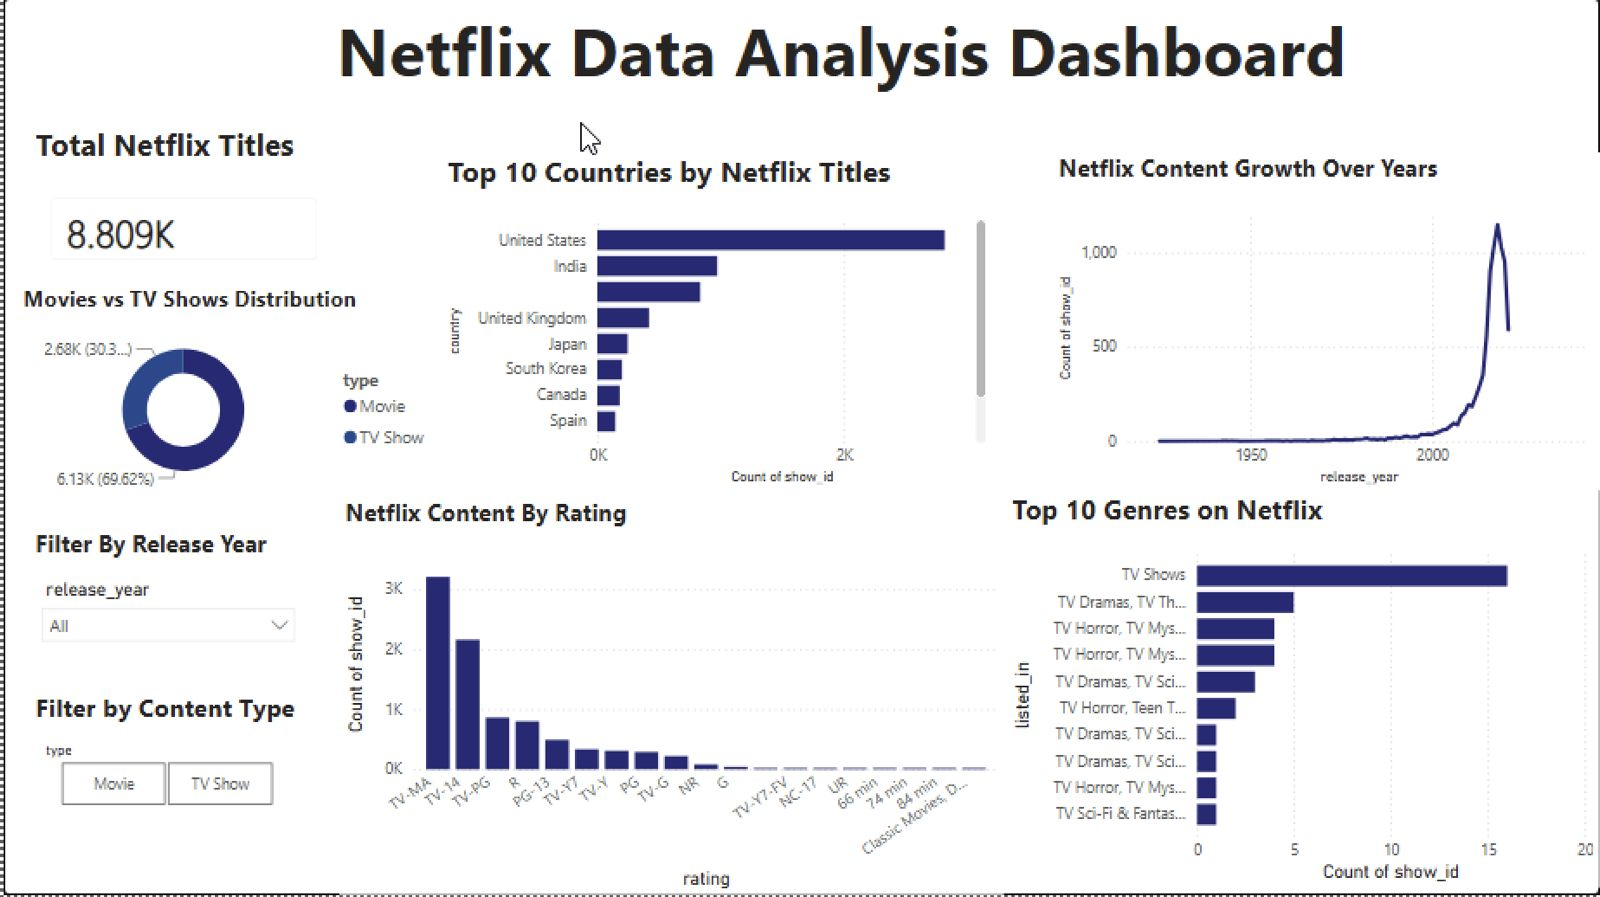

Layout of this report page (visuals, bound fields, positions):
{"tool":"powerbi","page":{"name":"Page 1","canvas":[1280,720],"ordinal":0},"visuals":[{"type":"cardVisual","title":"Total Netflix Titles","fields":{"Data":["Count(netflix_titles_cleaned.show_id)"]},"box":[13,113,223.2,127.5],"z":0},{"type":"donutChart","title":"Movies vs TV Shows Distribution","fields":{"Category":["netflix_titles_cleaned.type"],"Y":["CountNonNull(netflix_titles_cleaned.show_id)"]},"box":[13,253.6,223.2,171],"z":1000},{"type":"clusteredBarChart","title":"Top 10 Countries by Netflix Titles","fields":{"Category":["netflix_titles_cleaned.country"],"Y":["CountNonNull(netflix_titles_cleaned.show_id)"]},"box":[265.2,113,492.8,311.6],"z":2000},{"type":"lineChart","title":"Netflix Content Growth Over Years","fields":{"Category":["netflix_titles_cleaned.release_year"],"Y":["CountNonNull(netflix_titles_cleaned.show_id)"]},"box":[782.6,100,497.1,324.6],"z":3000},{"type":"clusteredColumnChart","title":"Netflix Content By Rating","fields":{"Category":["netflix_titles_cleaned.rating"],"Y":["CountNonNull(netflix_titles_cleaned.show_id)"]},"box":[249.3,437.7,469.6,252.2],"z":4000},{"type":"clusteredBarChart","title":"Top 10 Genres on Netflix","fields":{"Category":["netflix_titles_cleaned.listed_in"],"Y":["CountNonNull(netflix_titles_cleaned.show_id)"]},"box":[730.4,437.7,529,282.6],"z":5000},{"type":"textbox","box":[218.8,0,897.1,82.6],"z":6000},{"type":"slicer","title":"Filter By Release Year","fields":{"Values":["netflix_titles_cleaned.release_year"]},"box":[0,458,223.2,105.8],"z":7000},{"type":"slicer","title":"Filter by Content Type","fields":{"Values":["netflix_titles_cleaned.type"]},"box":[0,589.9,218.8,100],"z":7001}]}

Visuals, with their boxes in screenshot pixels (x1, y1, x2, y2), scaled from the page's 1280x720 canvas onto the 1600x897 screenshot:
"Total Netflix Titles" cardVisual: (16, 141, 295, 300)
"Movies vs TV Shows Distribution" donutChart: (16, 316, 295, 529)
"Top 10 Countries by Netflix Titles" clusteredBarChart: (332, 141, 948, 529)
"Netflix Content Growth Over Years" lineChart: (978, 125, 1599, 529)
"Netflix Content By Rating" clusteredColumnChart: (312, 545, 899, 860)
"Top 10 Genres on Netflix" clusteredBarChart: (913, 545, 1574, 896)
textbox: (274, 0, 1395, 103)
"Filter By Release Year" slicer: (0, 571, 279, 702)
"Filter by Content Type" slicer: (0, 735, 274, 860)
